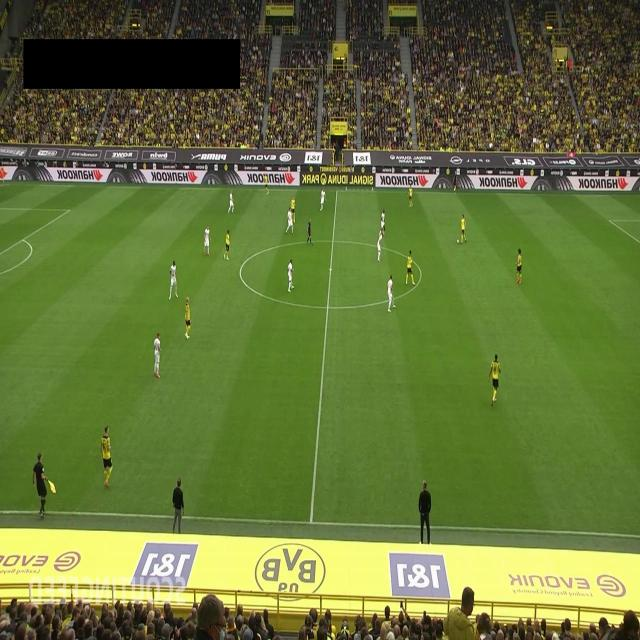player: (100, 424, 112, 488), (488, 354, 502, 406), (153, 332, 162, 378), (169, 260, 178, 300), (184, 296, 192, 340), (405, 250, 415, 285), (387, 274, 395, 312), (515, 248, 522, 284), (286, 207, 294, 235), (203, 224, 210, 256), (460, 213, 467, 243), (288, 258, 294, 292), (377, 230, 383, 262), (224, 230, 230, 260), (290, 194, 296, 223), (228, 190, 235, 214), (380, 208, 386, 232), (264, 173, 270, 195), (320, 189, 326, 211), (408, 185, 412, 207)
referee: (32, 451, 58, 521), (307, 218, 313, 246), (453, 170, 457, 192)
